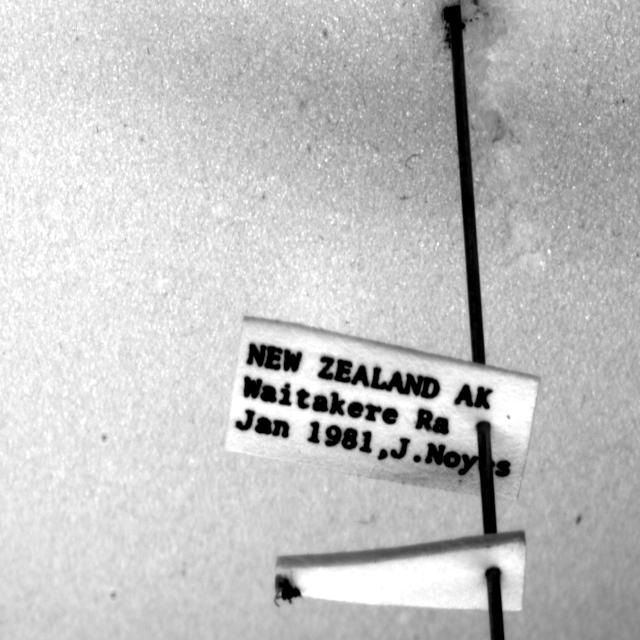typed_label: (226, 317, 539, 499)
